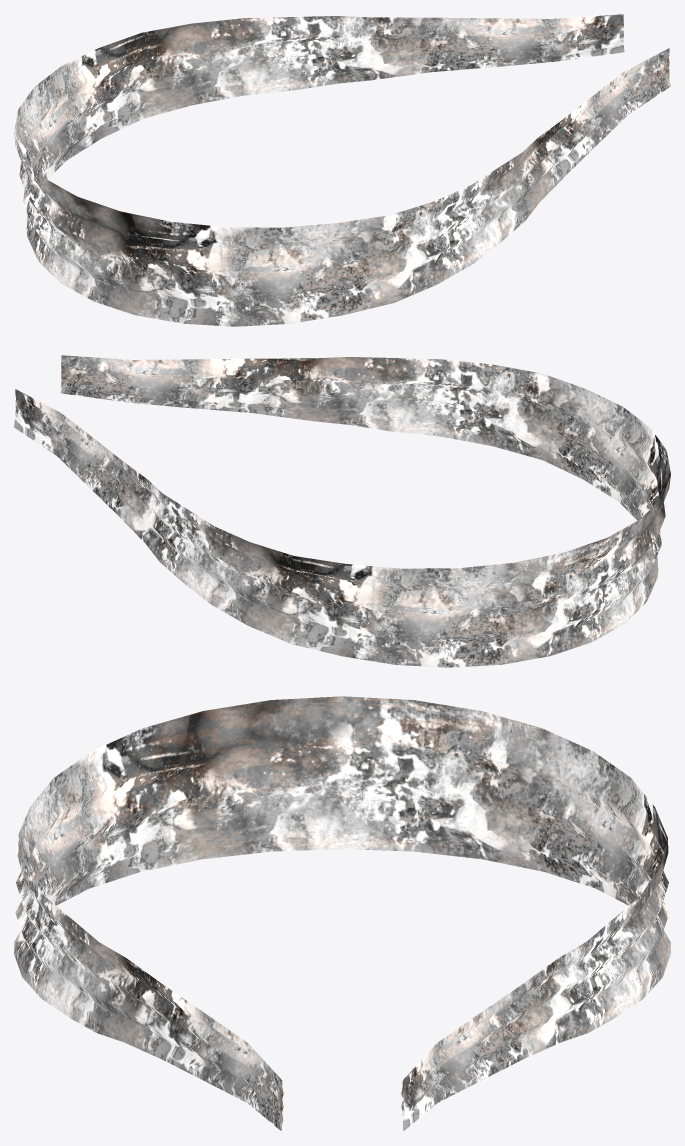
The model's file is SM_water_wheel_part_07.fbx.
3 renders of one model, top to bottom at view 1: azimuth 30°, elevation 25°; view 2: azimuth 150°, elevation 25°; view 3: azimuth 270°, elevation 25°, orthographic. The views are drawn at different scales.
Parts seen in each view (by area): view 1: SM_water_wheel_part_07_LOD0; view 2: SM_water_wheel_part_07_LOD0; view 3: SM_water_wheel_part_07_LOD0.
Part boxes in pixels (x1,y1,x2,y2): SM_water_wheel_part_07_LOD0: (14, 14, 670, 326); SM_water_wheel_part_07_LOD0: (14, 355, 670, 667); SM_water_wheel_part_07_LOD0: (14, 696, 670, 1130).
Size of the model in its own units: 272 by 196 by 46.87.
Materials: 1 (1 with a texture image).
